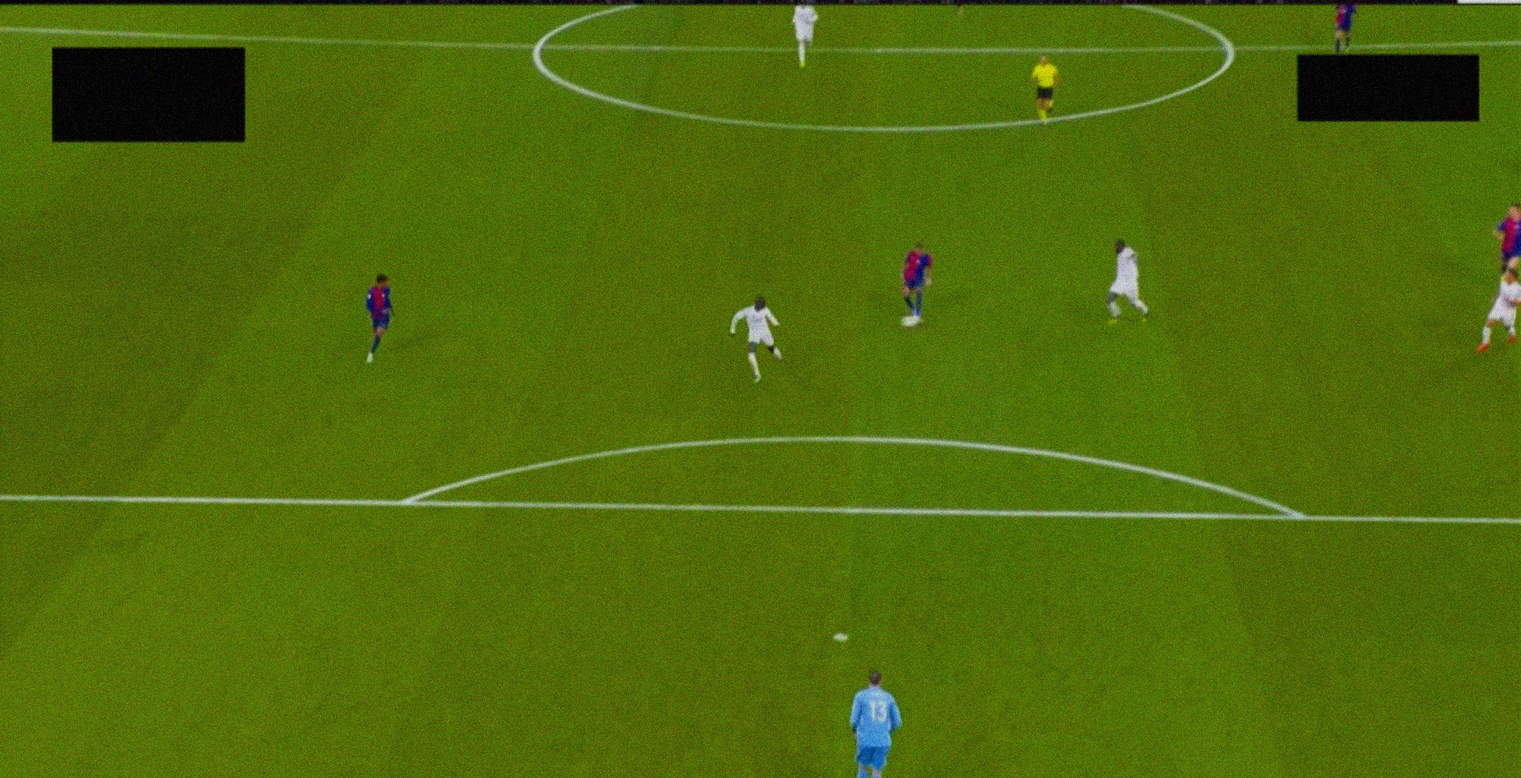ball: (902, 315, 920, 329)
goalkeeper: (845, 667, 905, 778)
player: (730, 296, 784, 381), (1473, 262, 1521, 351), (1107, 238, 1151, 326), (365, 273, 397, 364), (901, 242, 932, 323), (1490, 205, 1519, 289), (790, 3, 818, 69), (1334, 2, 1358, 54)
referee: (1031, 55, 1059, 126)
